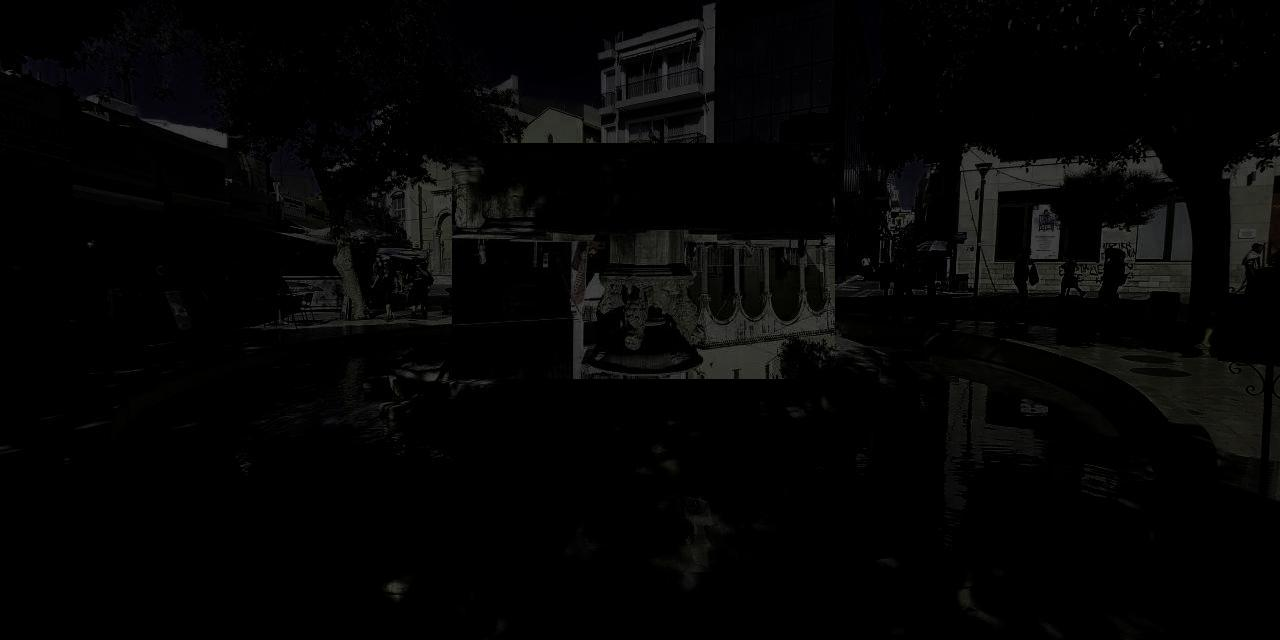Liontaria: (453, 144, 836, 380)
